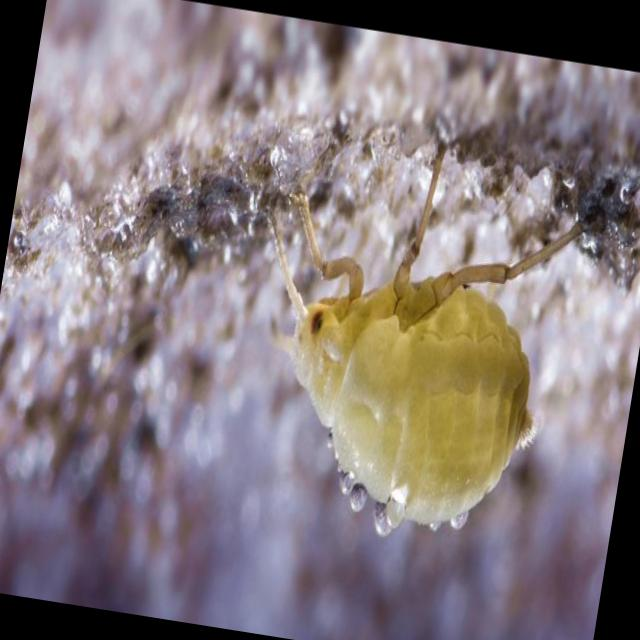Aphid: (186, 85, 607, 589)
